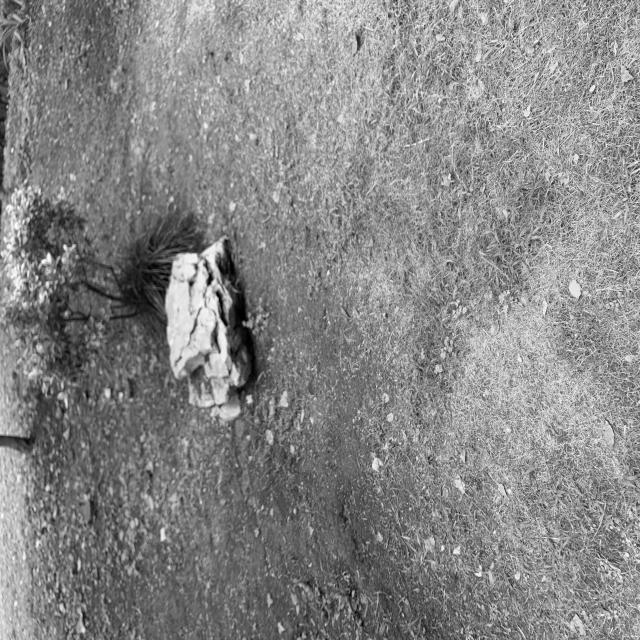Stone: (165, 236, 254, 419)
